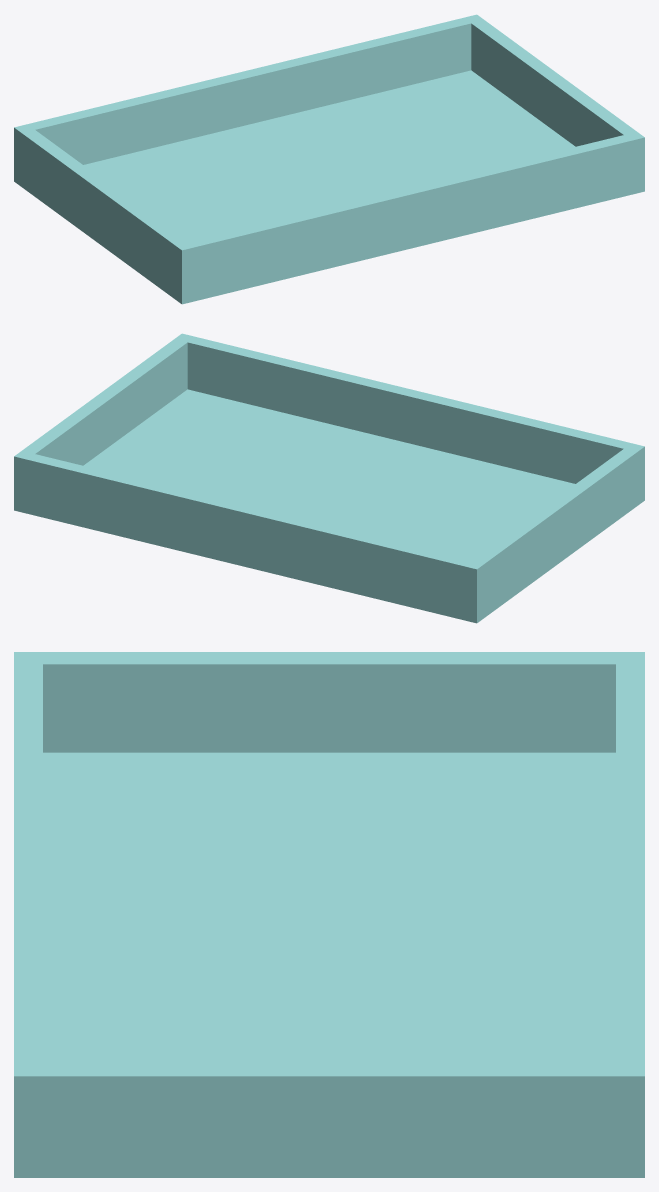
File: plate.fbx
3 renders of one model, top to bottom at view 1: azimuth 30°, elevation 25°; view 2: azimuth 150°, elevation 25°; view 3: azimuth 270°, elevation 25°, orthographic. The views are drawn at different scales.
Parts seen in each view (by area): view 1: plate; view 2: plate; view 3: plate.
Boxes of the visible parts, <box> form: plate: <box>14,14,644,304</box>; plate: <box>14,333,644,623</box>; plate: <box>14,652,644,1177</box>.
Bounding box in the file's own units: 2.13 × 0.2381 × 1.34.
